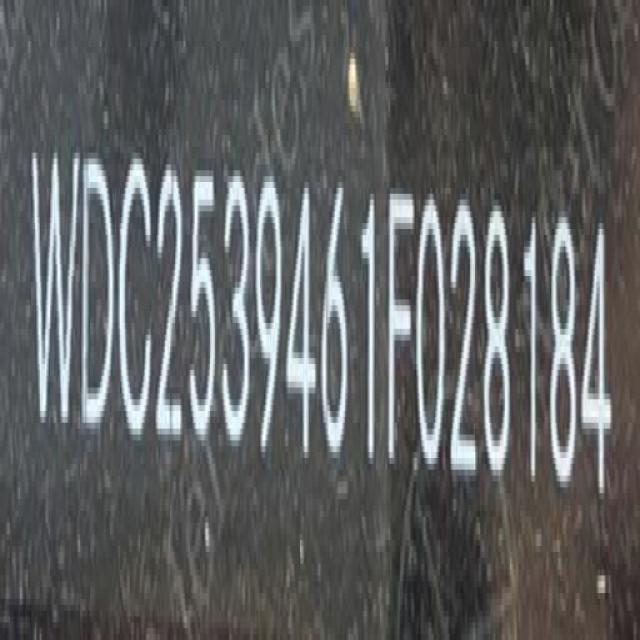0: (417, 192, 447, 482)
1: (356, 180, 382, 474), (522, 208, 542, 493)
2: (452, 200, 481, 486), (158, 166, 186, 451)
3: (223, 174, 251, 458)
4: (289, 174, 320, 462), (584, 235, 614, 504)
5: (191, 163, 219, 450)
6: (322, 180, 352, 470)
8: (550, 214, 580, 496), (483, 201, 512, 488)
9: (256, 181, 285, 465)
C: (120, 161, 157, 447)
D: (82, 150, 118, 439)
F: (389, 187, 414, 478)
W: (35, 143, 77, 437)
